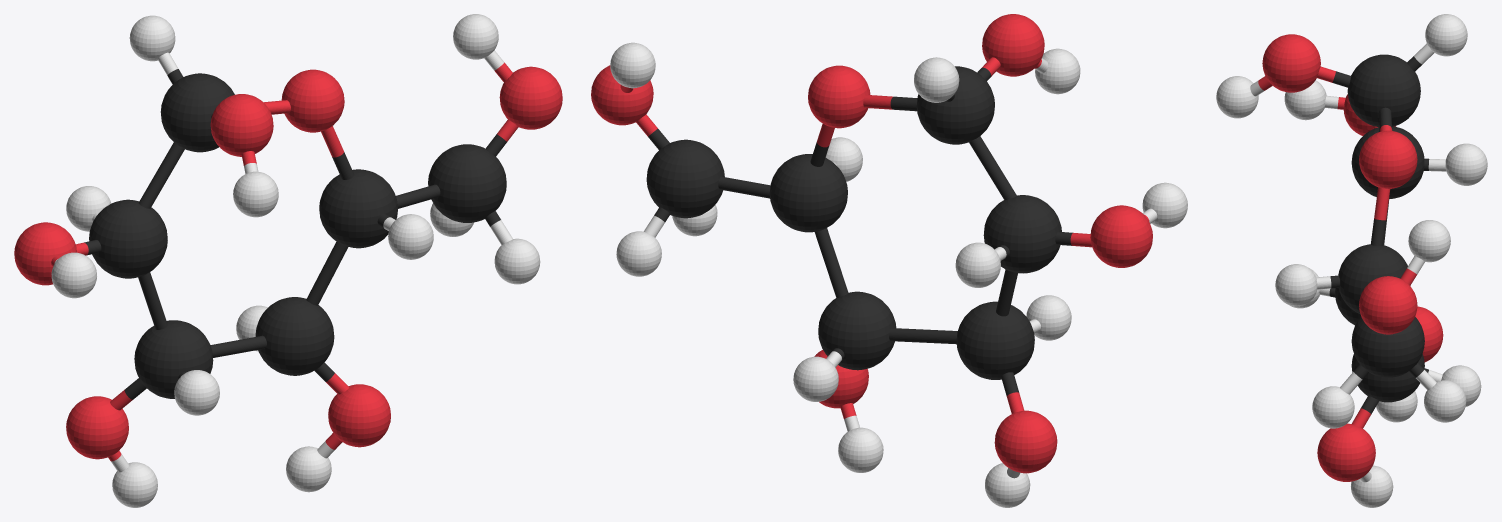
The model's file is glucose.glb.
3 renders of one model, left to right at view 1: azimuth 30°, elevation 25°; view 2: azimuth 150°, elevation 25°; view 3: azimuth 270°, elevation 25°, orthographic. The views are drawn at different scales.
Visible parts, largest first — view 1: carbon1.004, carbon1.005, carbon1.002, carbon1, carbon1.003, carbon1.001, oxygen1.002, oxygen1.003, oxygen1.001, oxygen1.004, oxygen1, oxygen1.005 (+18 smaller); view 2: carbon1.005, carbon1, carbon1.003, carbon1.004, carbon1.002, carbon1.001, oxygen1.004, oxygen1.005, oxygen1, oxygen1.001, oxygen1.002, hydrogen1.011 (+17 smaller); view 3: carbon1.001, carbon1.005, oxygen1.002, oxygen1.001, oxygen1, oxygen1.003, carbon1, carbon1.004, hydrogen1.002, hydrogen1, hydrogen1.009, carbon1.002 (+18 smaller).
Boxes of the visible parts, <box> form: carbon1.004: <box>255,297,334,375</box>; carbon1.005: <box>428,144,506,222</box>; carbon1.002: <box>89,199,167,278</box>; carbon1: <box>319,169,397,248</box>; carbon1.003: <box>134,320,213,398</box>; carbon1.001: <box>160,73,234,152</box>; oxygen1.002: <box>499,66,562,129</box>; oxygen1.003: <box>328,384,390,447</box>; oxygen1.001: <box>210,94,273,156</box>; oxygen1.004: <box>66,396,128,459</box>; oxygen1: <box>281,69,344,132</box>; oxygen1.005: <box>14,222,76,285</box>; carbon1.005: <box>646,139,724,218</box>; carbon1: <box>769,154,847,232</box>; carbon1.003: <box>956,301,1034,379</box>; carbon1.004: <box>818,291,896,370</box>; carbon1.002: <box>983,195,1061,273</box>; carbon1.001: <box>916,66,994,144</box>; oxygen1.004: <box>994,410,1057,473</box>; oxygen1.005: <box>1090,205,1152,267</box>; oxygen1: <box>808,65,870,128</box>; oxygen1.001: <box>982,14,1044,76</box>; oxygen1.002: <box>591,65,653,125</box>; hydrogen1.011: <box>616,231,661,276</box>; carbon1.001: <box>1347,54,1420,127</box>; carbon1.005: <box>1351,317,1424,377</box>; oxygen1.002: <box>1359,276,1417,334</box>; oxygen1.001: <box>1262,34,1320,92</box>; oxygen1: <box>1359,130,1417,188</box>; oxygen1.003: <box>1317,423,1375,481</box>; carbon1: <box>1338,244,1407,314</box>; carbon1.004: <box>1351,354,1424,402</box>; hydrogen1.002: <box>1425,14,1467,56</box>; hydrogen1: <box>1275,264,1317,306</box>; hydrogen1.009: <box>1445,143,1487,185</box>; carbon1.002: <box>1351,126,1424,198</box>.
Bounding box in the file's own units: 20.08 × 16.49 × 9.27.
